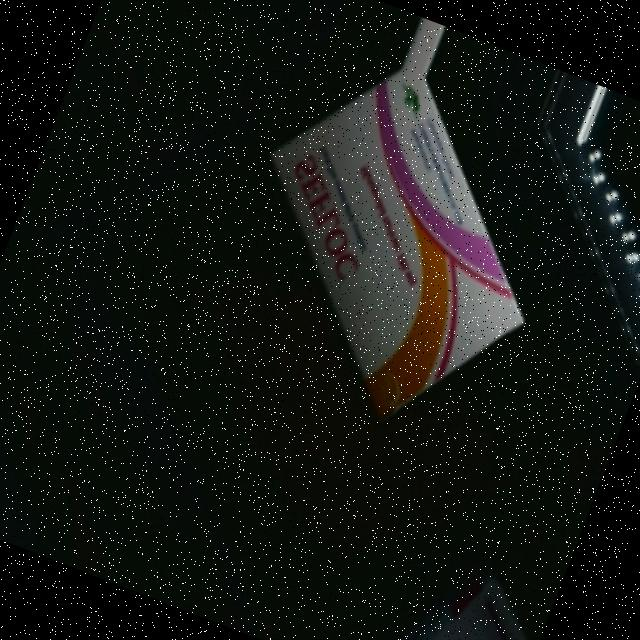medicine_name_detection: (192, 4, 606, 454)
